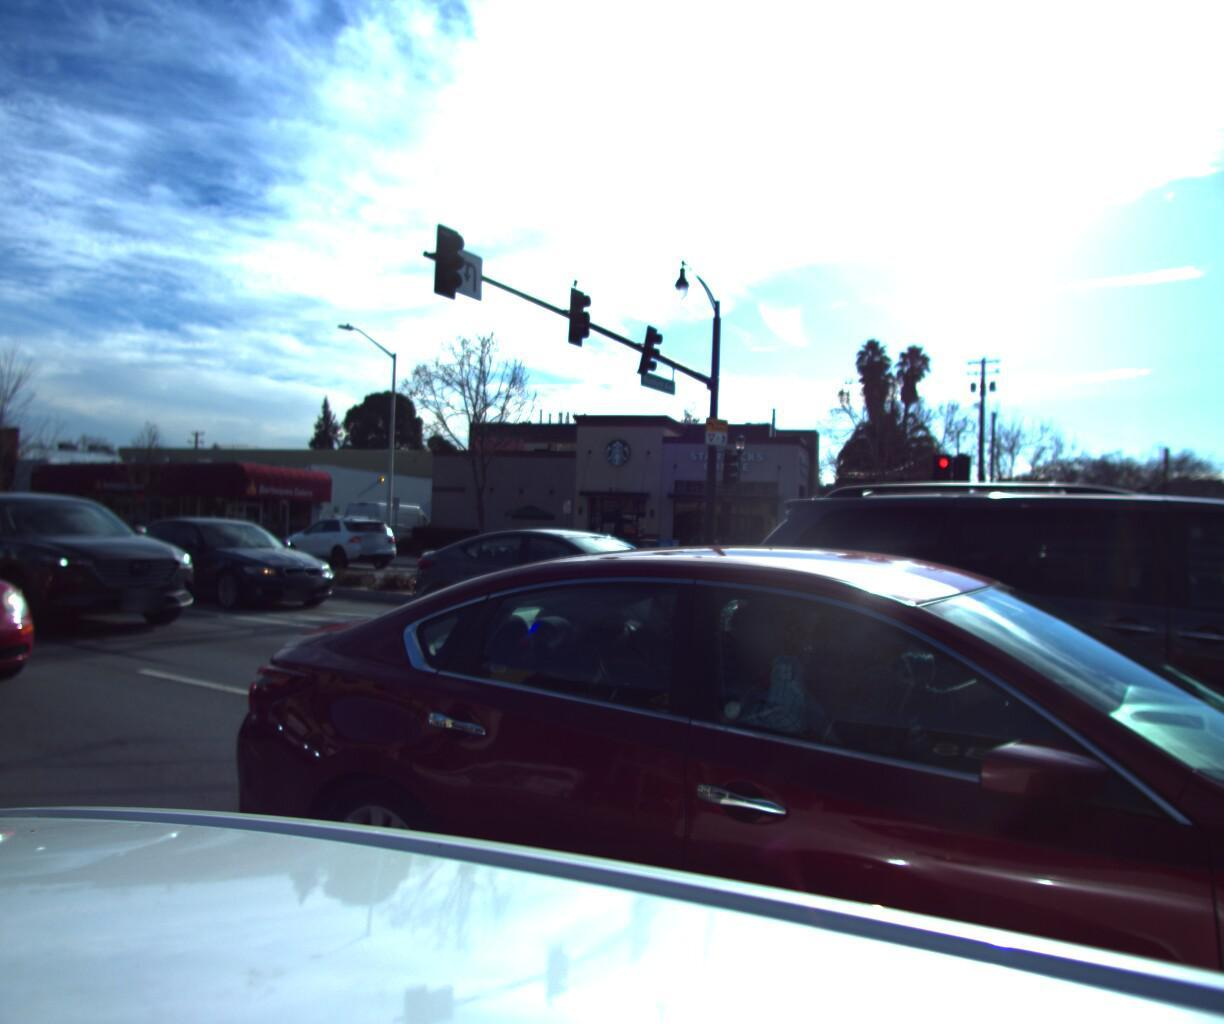car: (163, 500, 1224, 1024), (724, 466, 1224, 1003), (376, 506, 753, 669), (0, 475, 226, 641), (94, 507, 351, 615), (0, 489, 80, 742), (276, 509, 401, 563), (336, 494, 438, 551)
